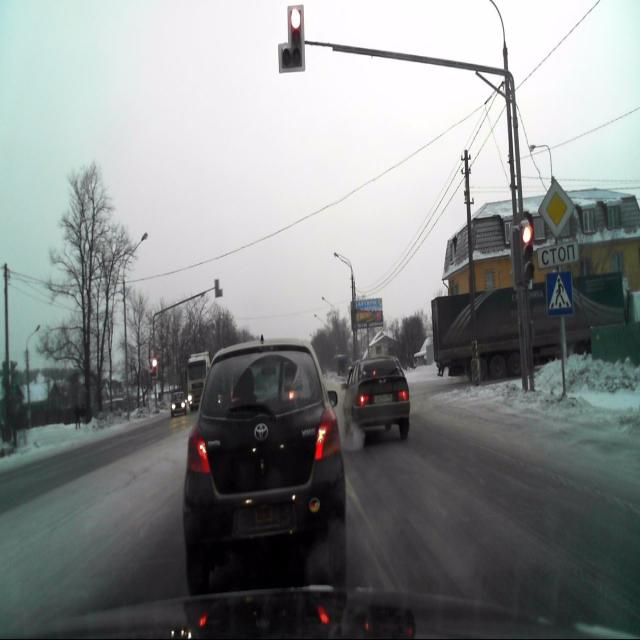object: (558, 318, 566, 396)
road sign: (539, 177, 573, 236), (545, 271, 574, 317), (538, 242, 578, 268)
